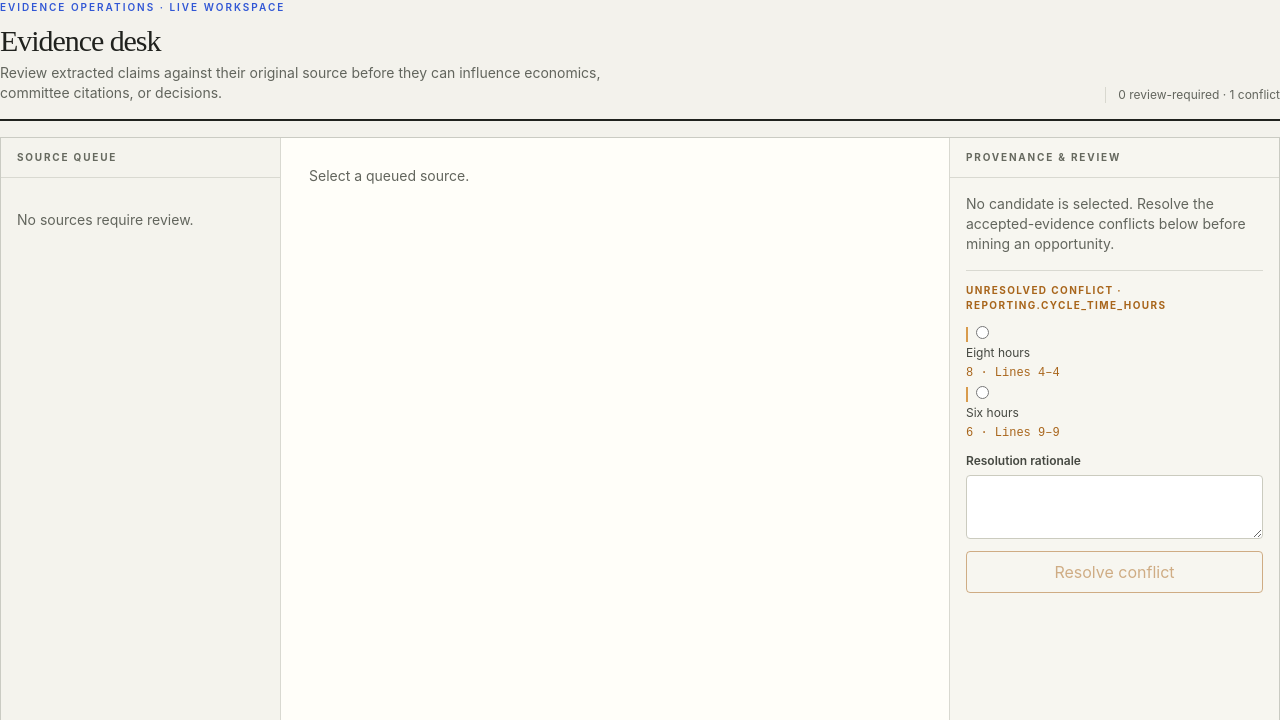
it: EvidenceWorkbench › keeps accepted-evidence conflicts actionable when the candidate queue is empty
Click the radio button labelled "Six hours 6 · Lines 9–9": (982, 392) [976, 386, 989, 399]
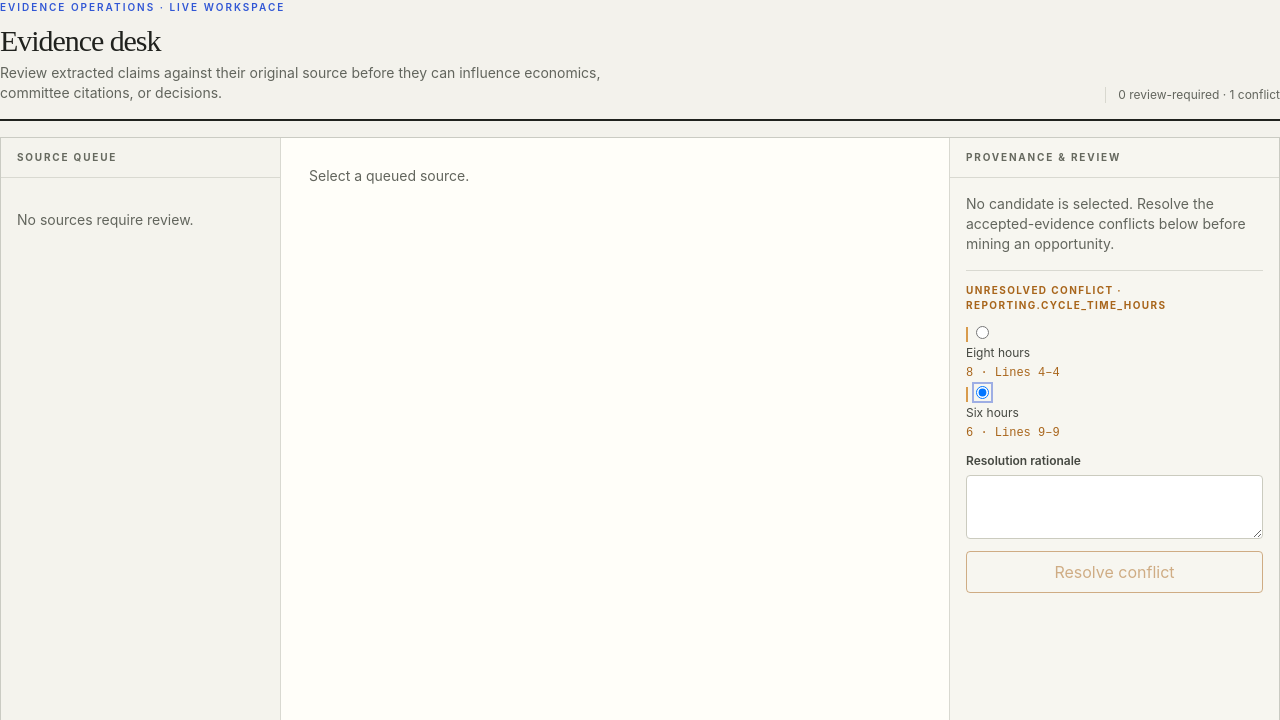
In the text box labelled "Resolution rationale": (1114, 507) [966, 475, 1263, 539], type "The revised source is more recent."
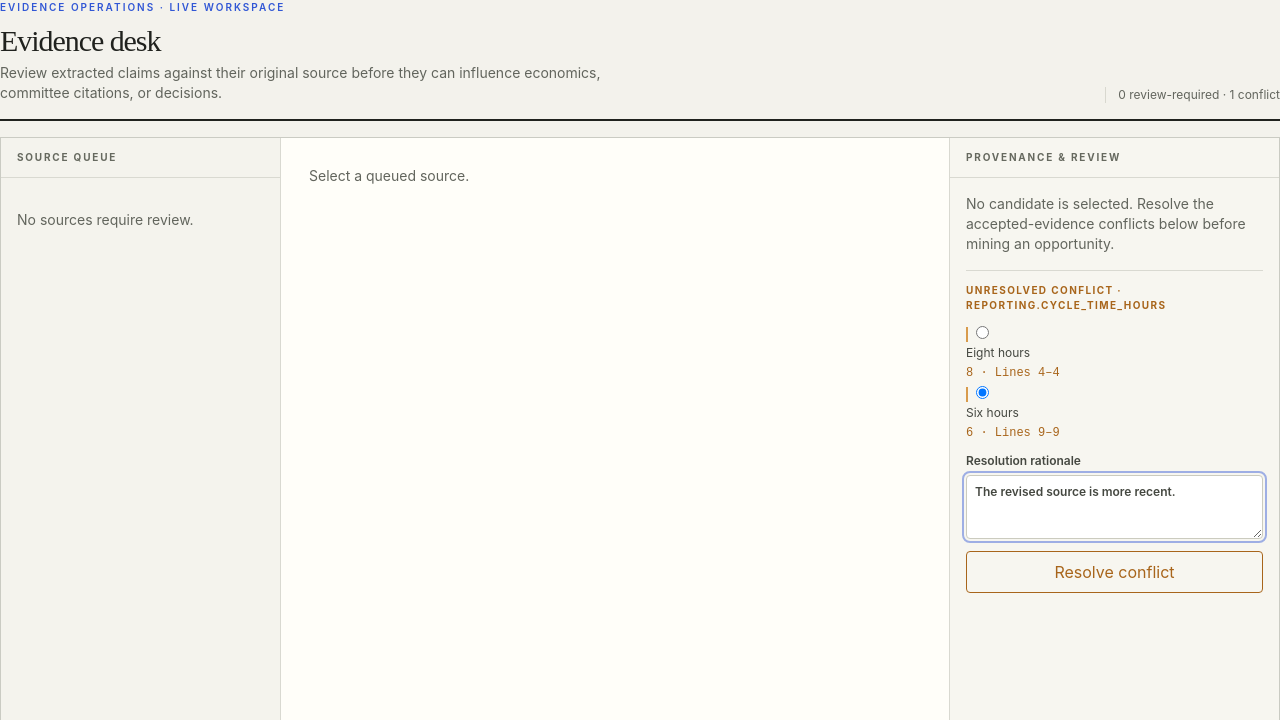
Click the button "Resolve conflict": (1114, 572) [966, 551, 1263, 593]
(page scrolled)
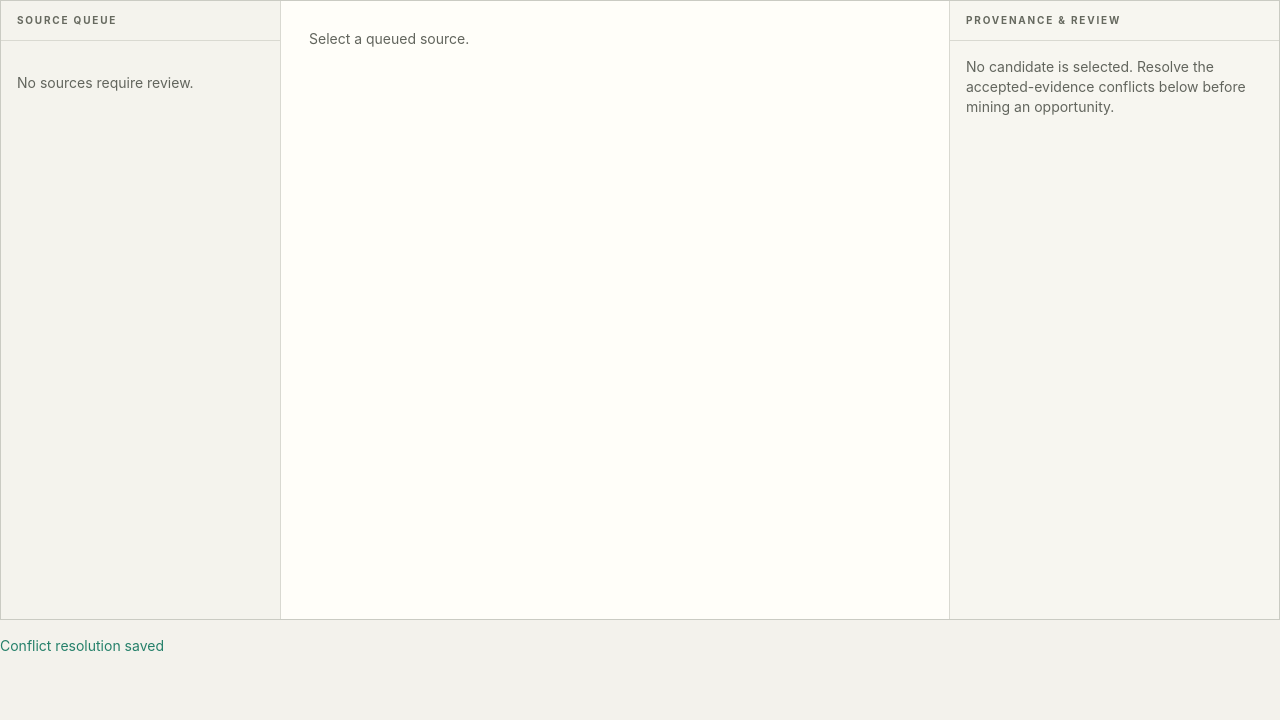
expect the text "Conflict resolution saved" is shown: met, box [0, 637, 164, 654]
